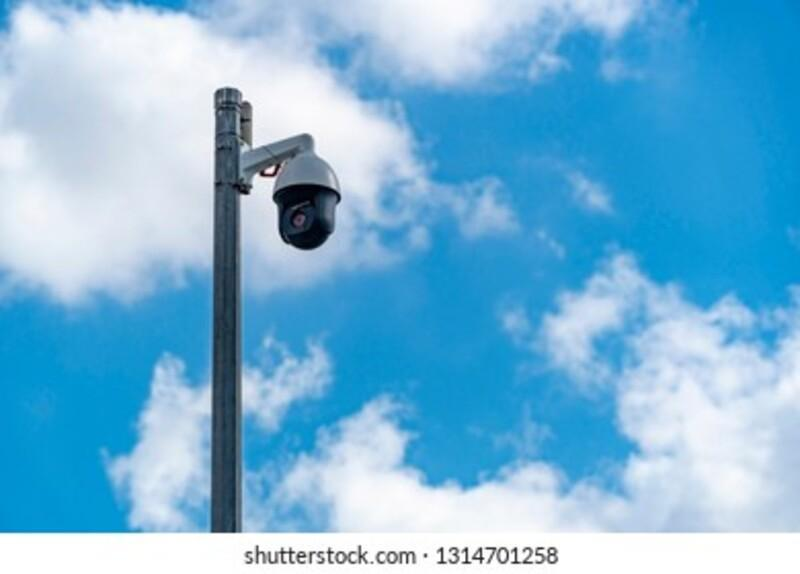ptz: (271, 157, 346, 253)
